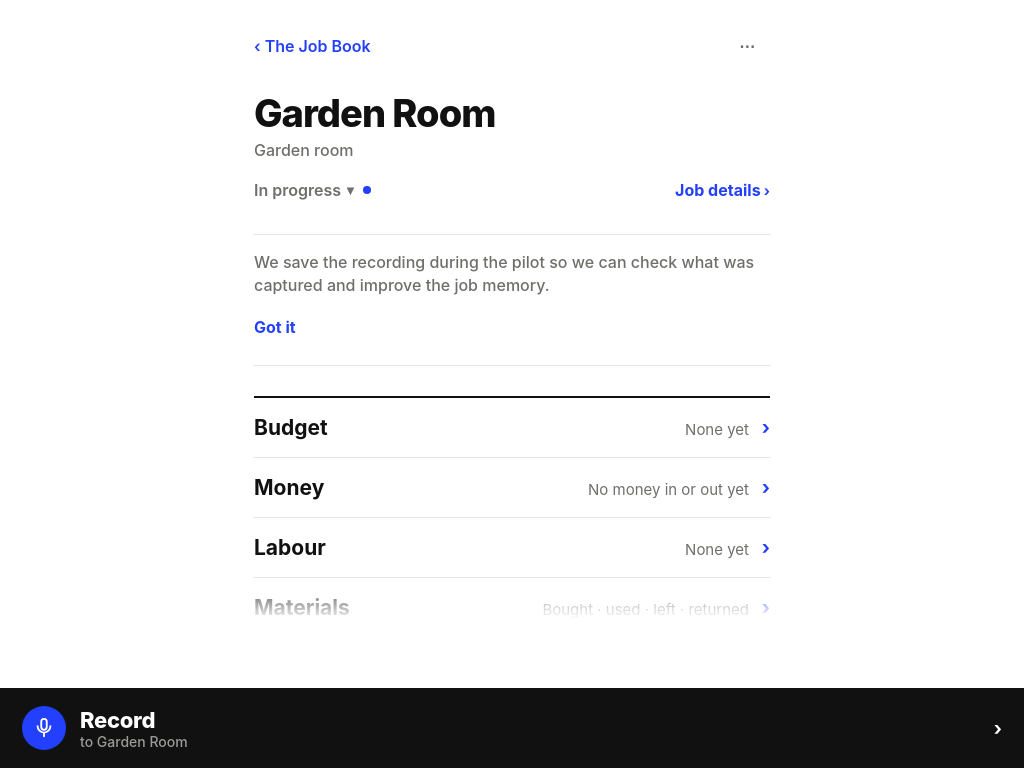
Test: Job details — placement › remains available from the header overflow menu as well
This screenshot has width=1024, height=768.
Expected: the navigation bar named "Job sections" is shown, [254, 396, 770, 698]
Click the button named "more actions": [748, 46] box [726, 24, 770, 68]
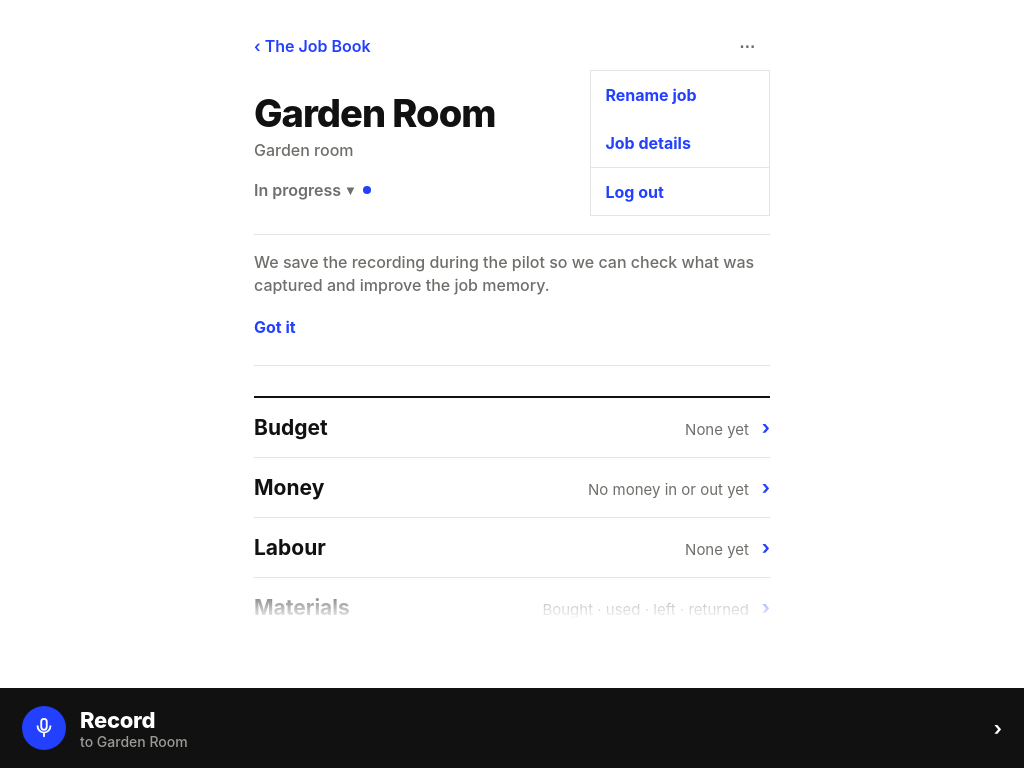
Click the menu item "Job details": [680, 143] box [591, 119, 769, 167]
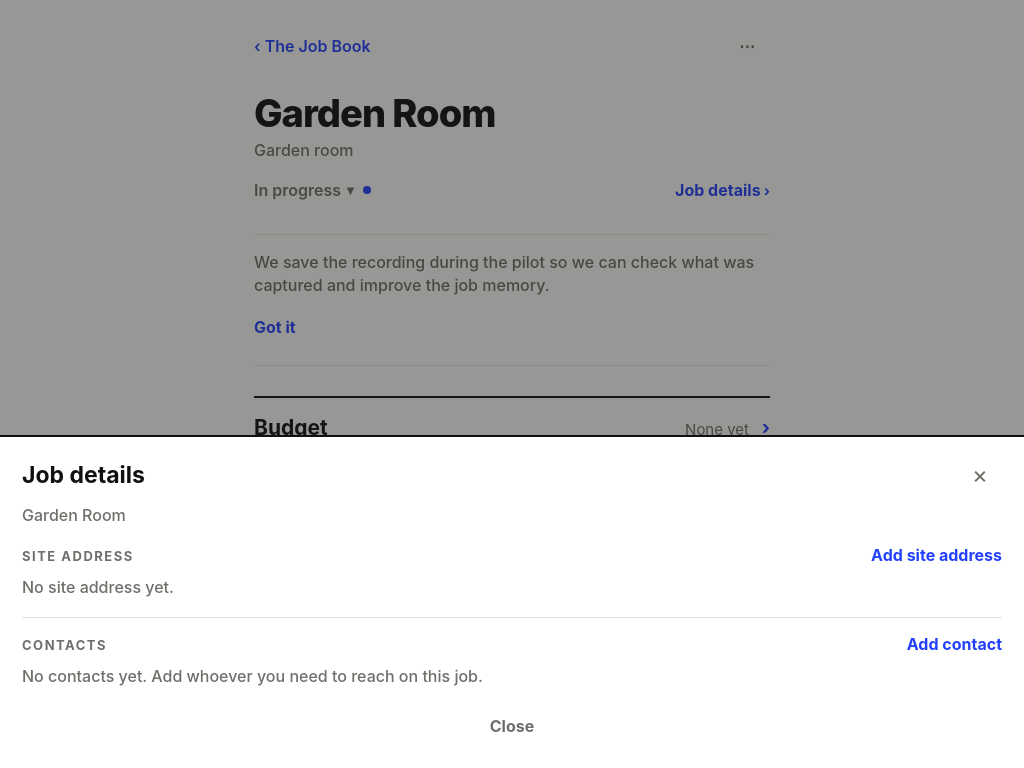
Expected: the dialog "Job details" is shown, [0, 435, 1023, 767]
